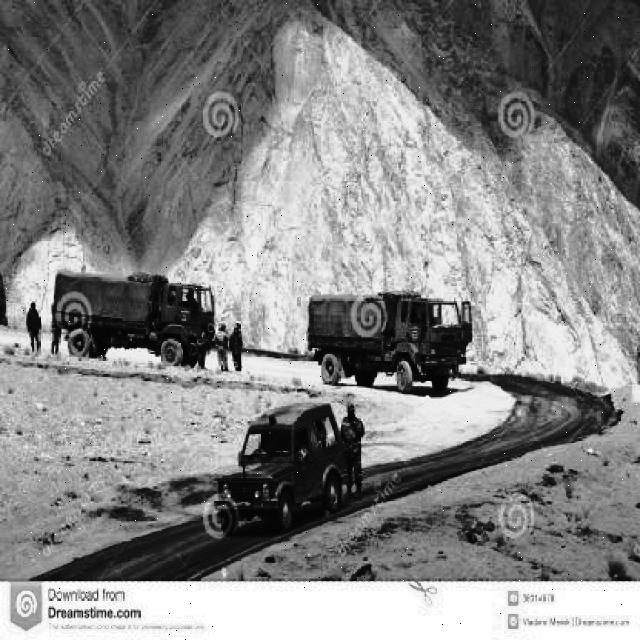HCV: (311, 286, 474, 389), (59, 263, 213, 361)
